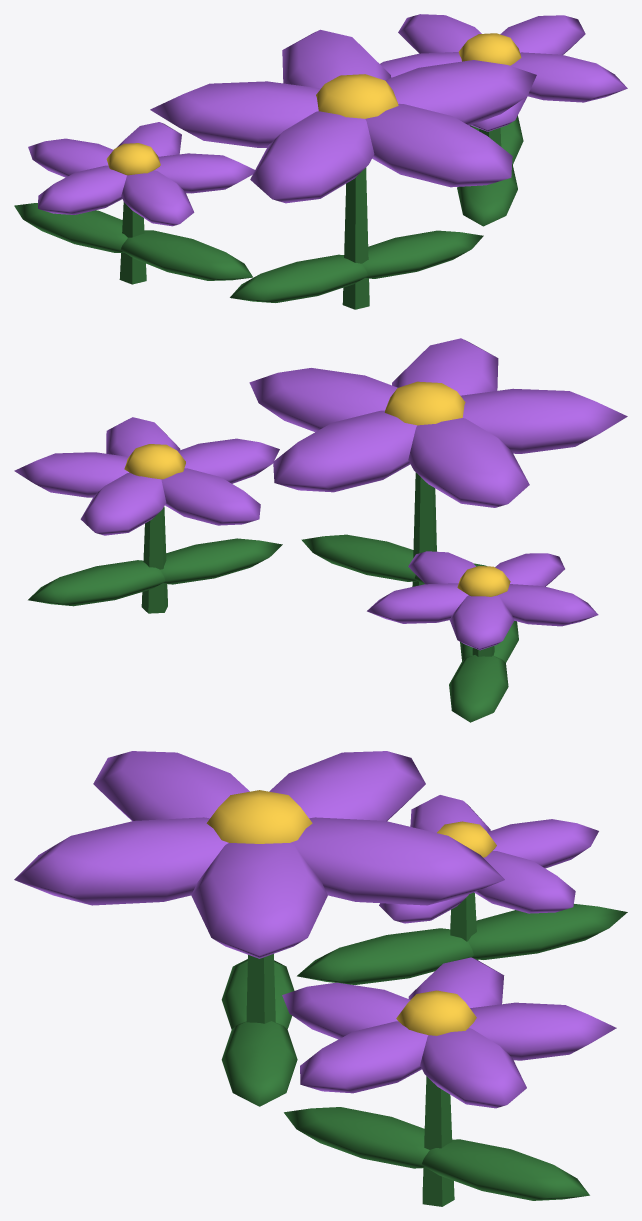
3 views of the same model, one above another, from view 1: azimuth 30°, elevation 25°; view 2: azimuth 150°, elevation 25°; view 3: azimuth 270°, elevation 25° (orthographic). The views are drawn at different scales.
Visible parts, largest first — view 1: flower-chunky-purple; view 2: flower-chunky-purple; view 3: flower-chunky-purple.
Boxes of the visible parts, <box> form: flower-chunky-purple: <box>14,14,627,309</box>; flower-chunky-purple: <box>14,338,627,722</box>; flower-chunky-purple: <box>14,751,627,1206</box>.
Size of the model in its own units: 1.61 by 0.605 by 1.21.
